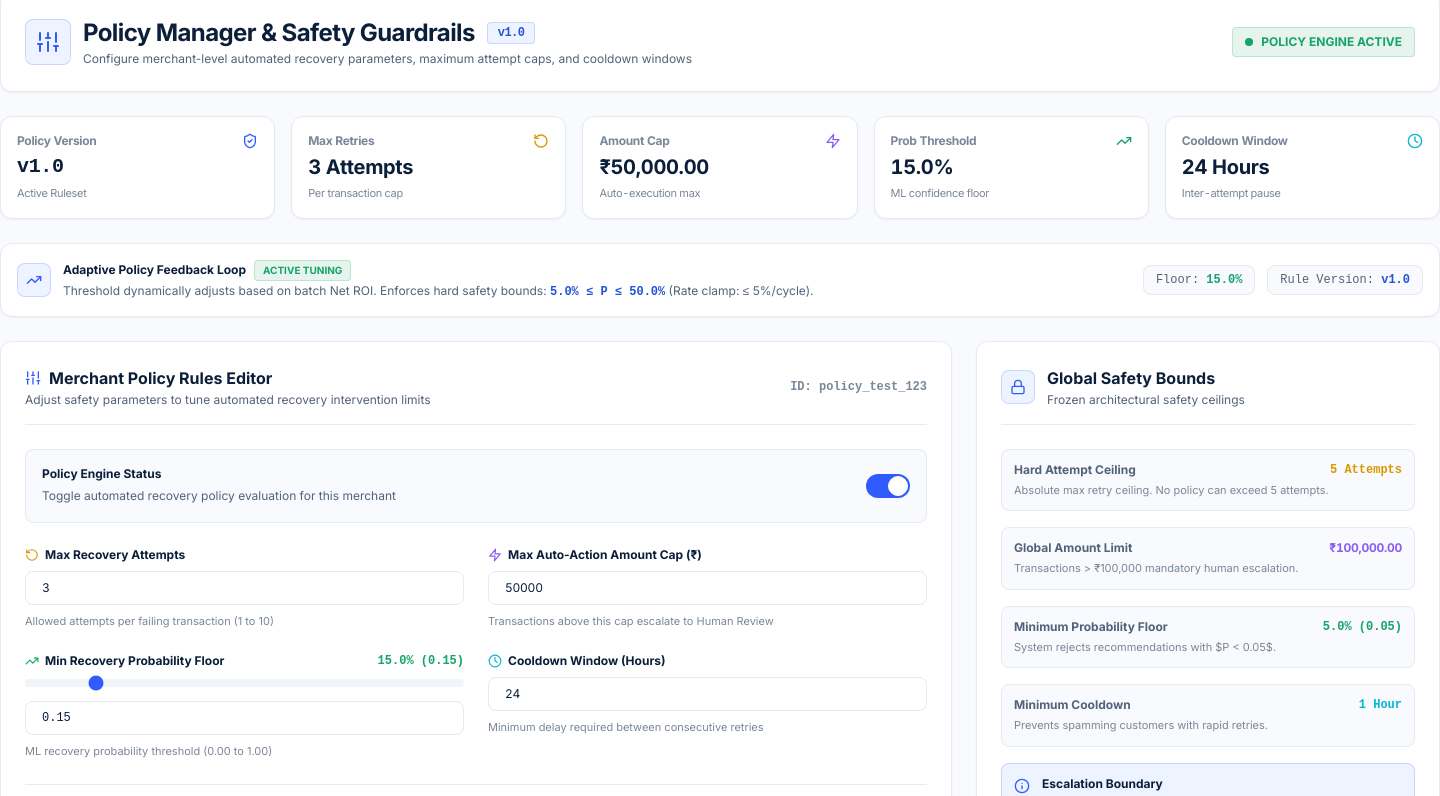
it: Step 35: Policy Manager Dashboard Test Suite › 2. Displays client-side validation errors for invalid input values
Replace the text in the number field labelled "Max Recovery Attempts" with "0": [244, 588] box top-left (25, 570), bottom-right (464, 604)
(page scrolled)
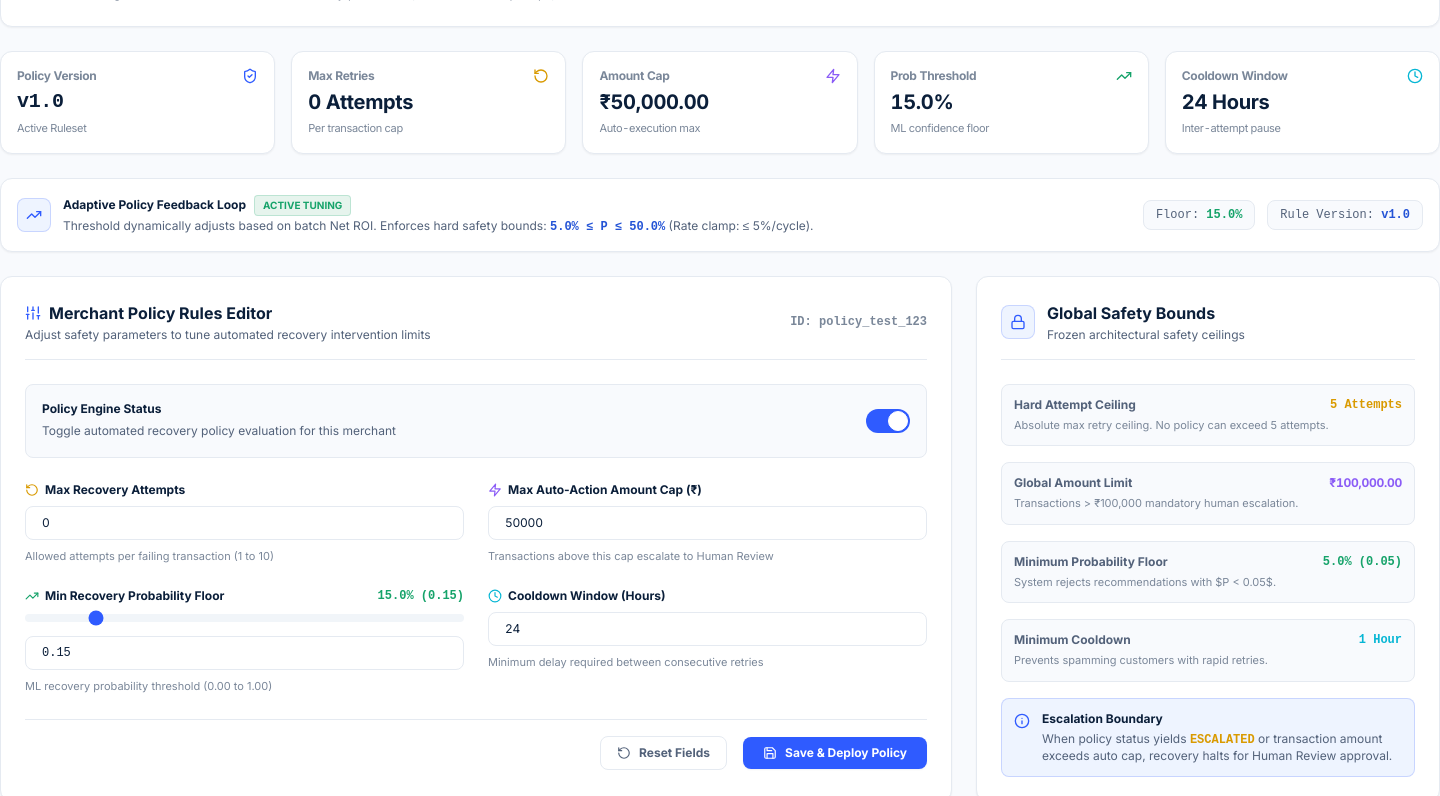
Submit the form named "Max Recovery Attempts", box top-left (25, 384), bottom-right (927, 770)
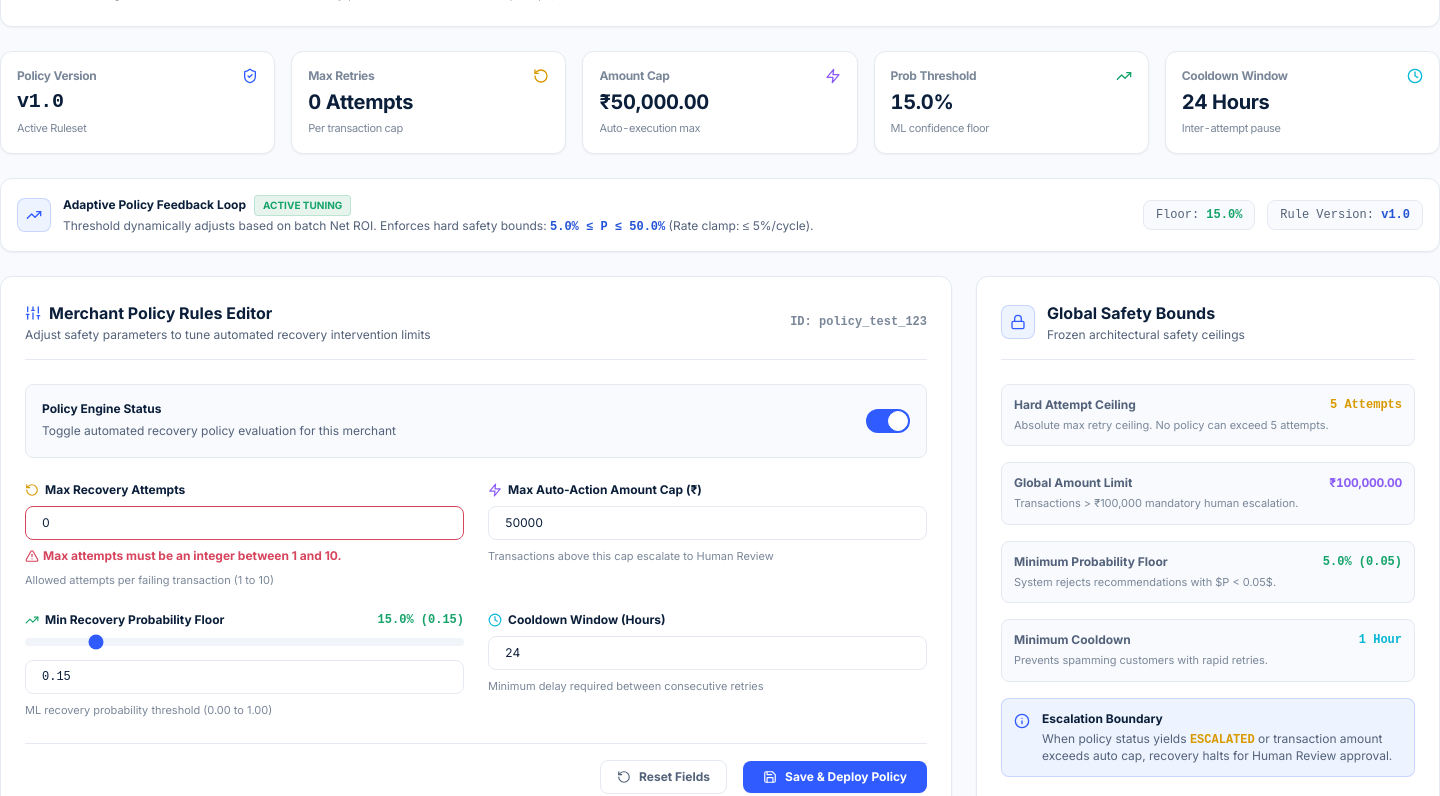
Check: the text "Max attempts must be an integer between 1 and 10." is shown, box top-left (25, 548), bottom-right (342, 562)
